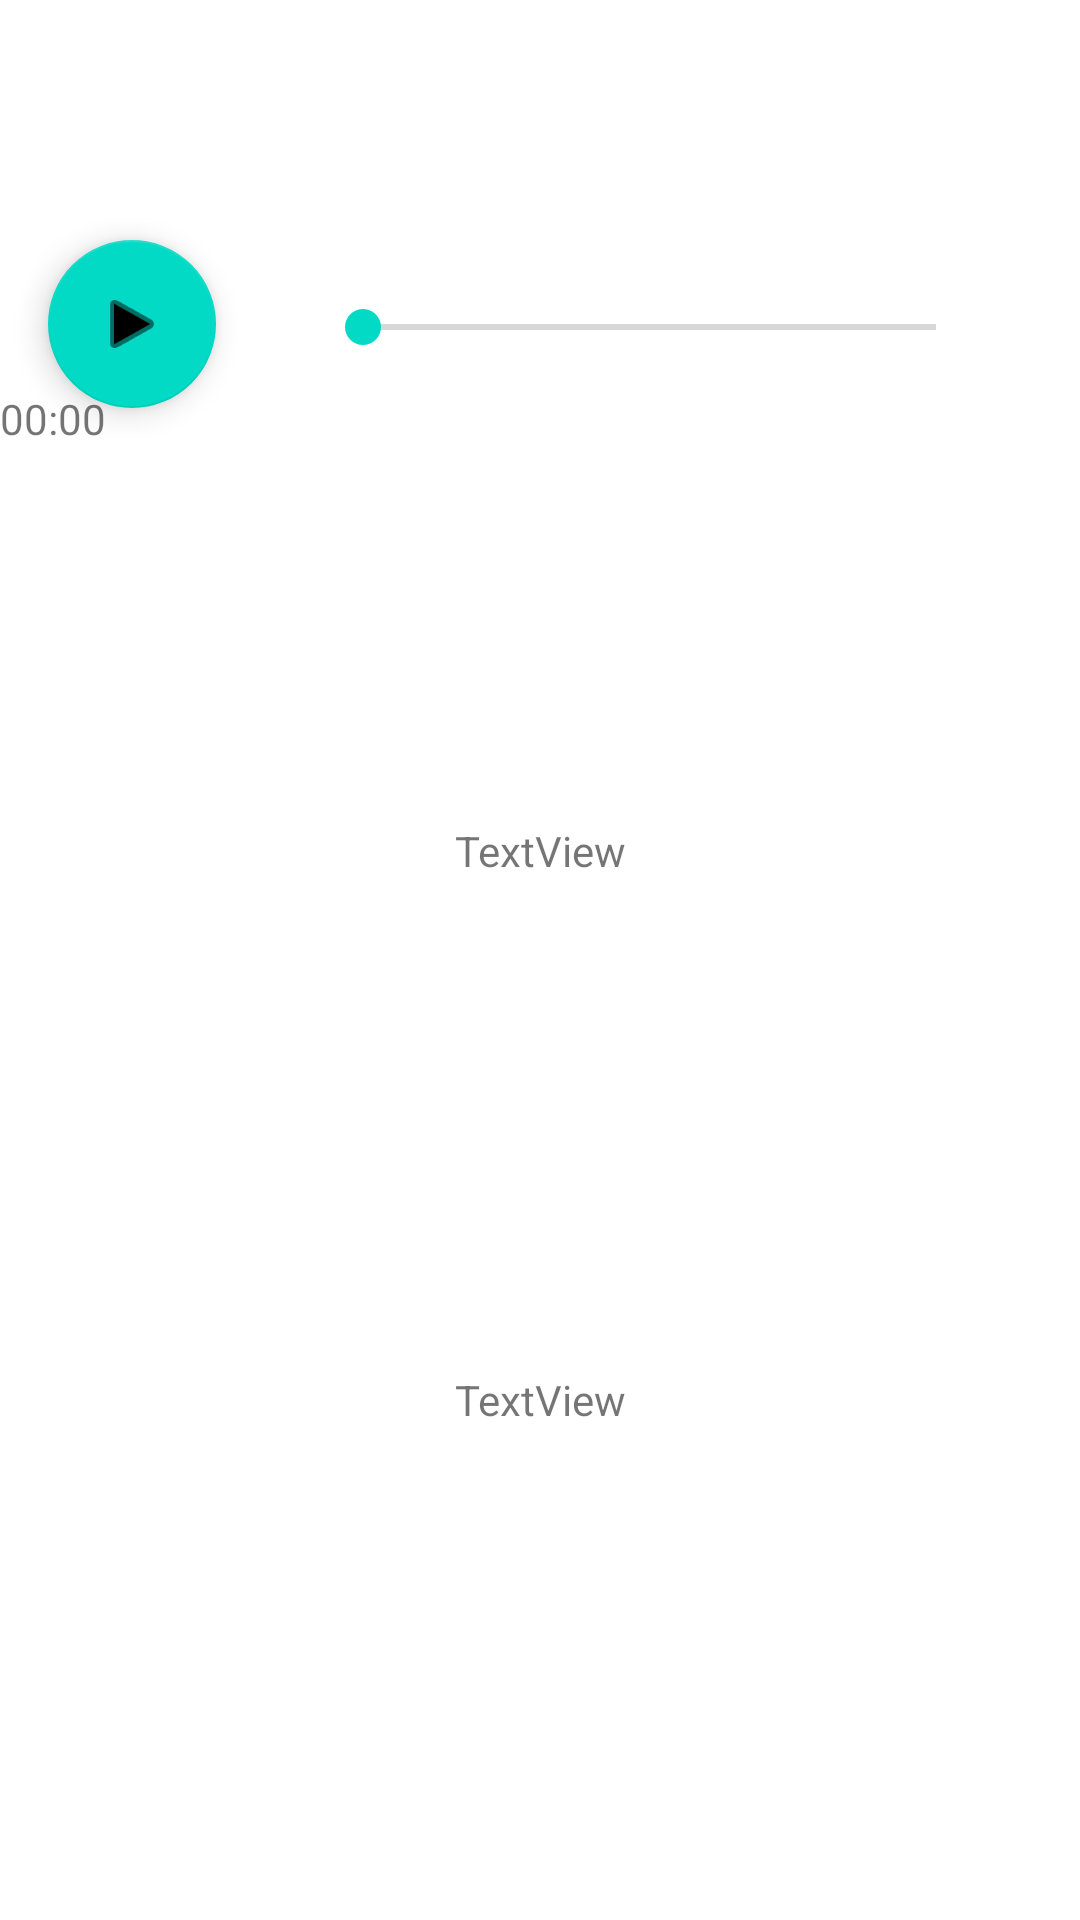

Where icons sit on this 1080 x 1920 app screen, as bbox=(x1, y1, x2, y2):
play: bbox=(48, 240, 216, 408)
